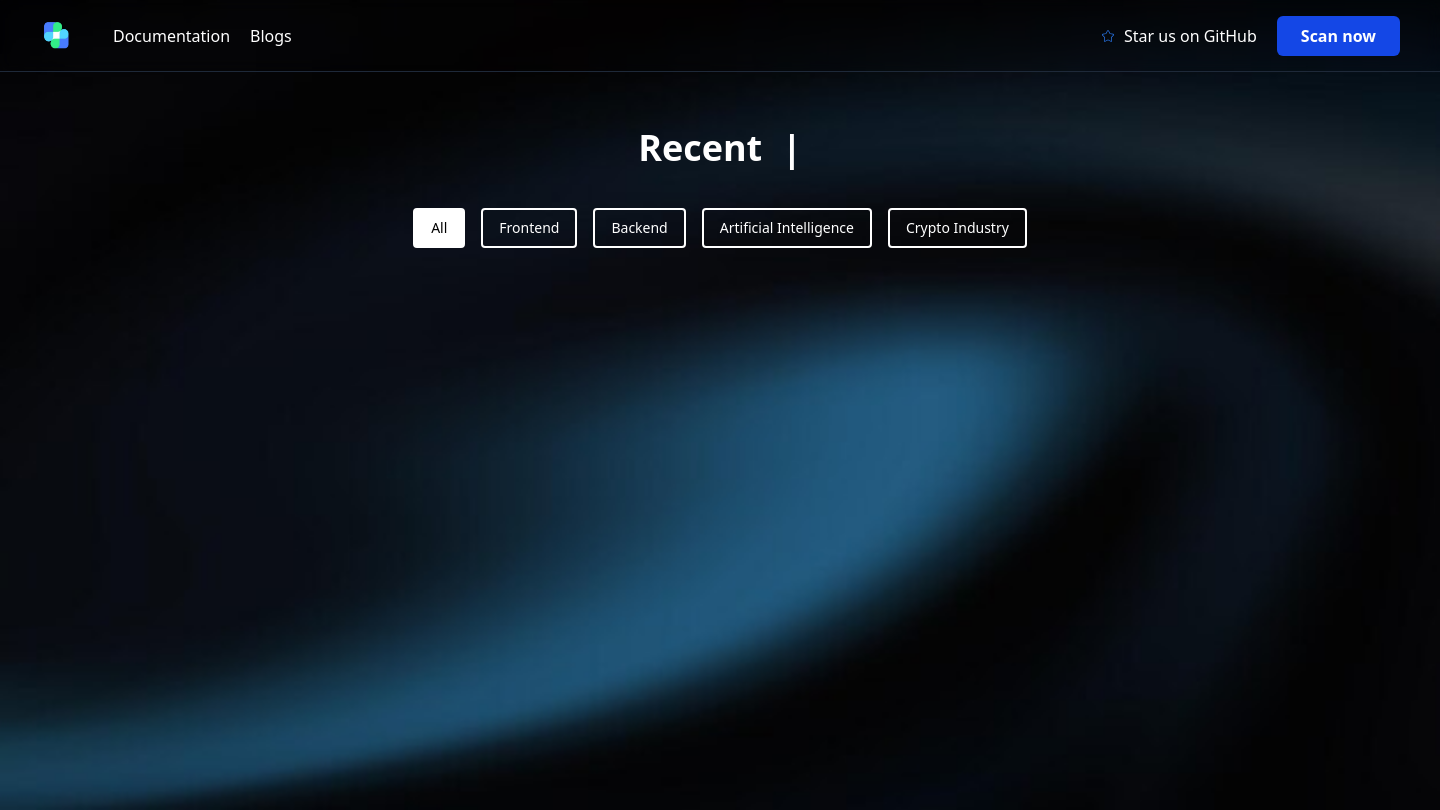
it: BlogsSection › shows message when no posts for tag
What coordinates should you click on to do the following:
click the button "Artificial Intelligence"
I would click on:
 (787, 228)
Its box is 702,208 -> 872,248.
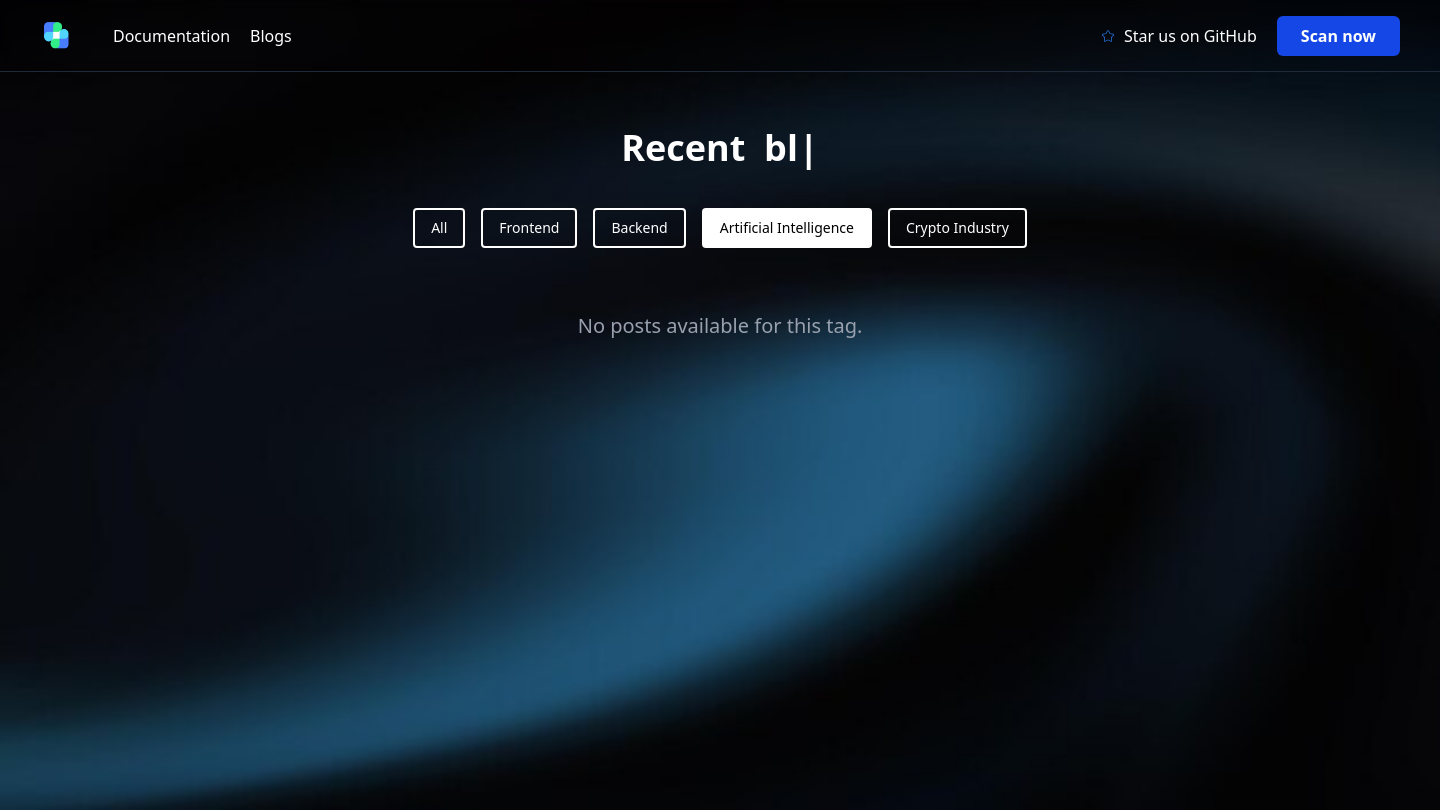
Expected: the text "No posts available for this tag." is shown, 578,312 -> 862,340
